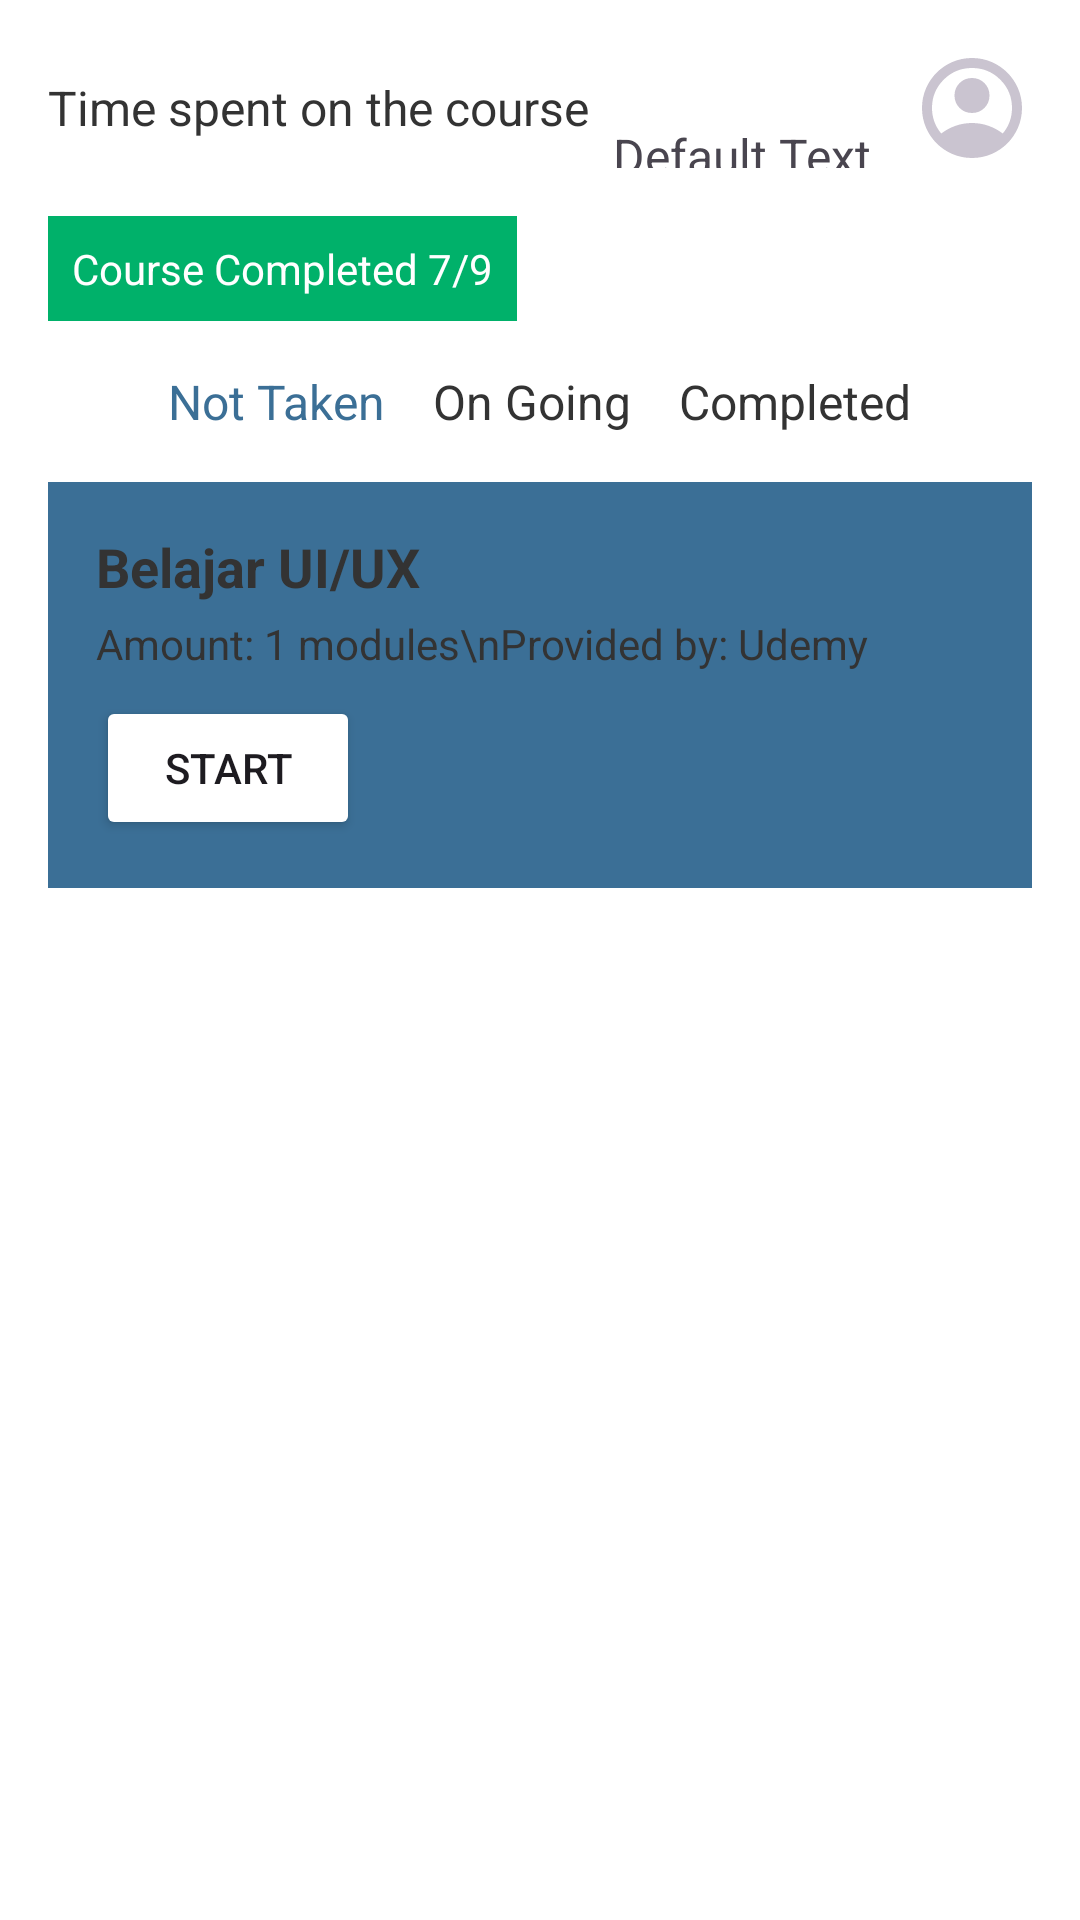

Icon click points for this 1080px×1920px phone screenshot, format (x=x, y=y):
Profile: (x=972, y=108)
